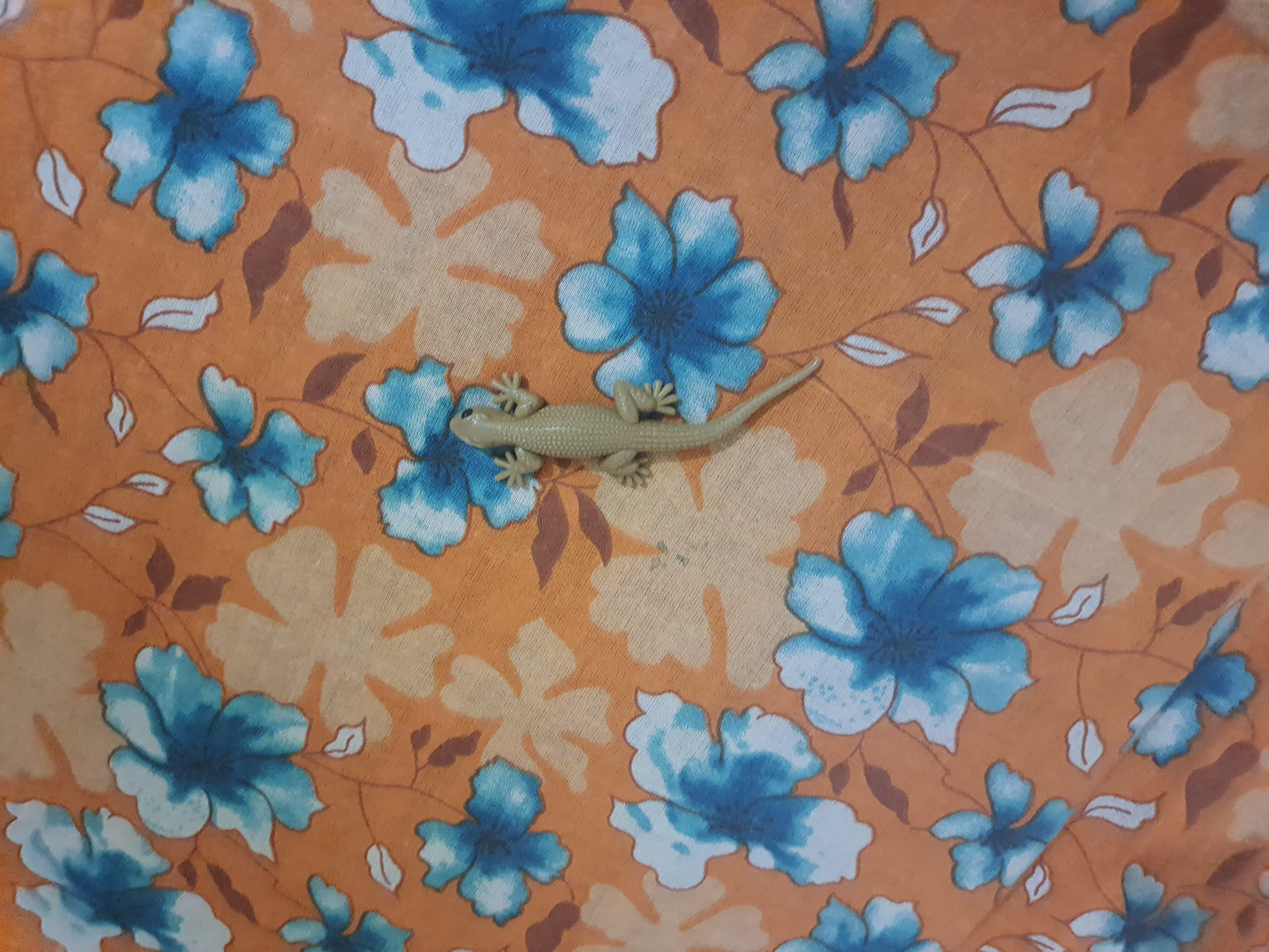lizard: (587, 324, 832, 622)
